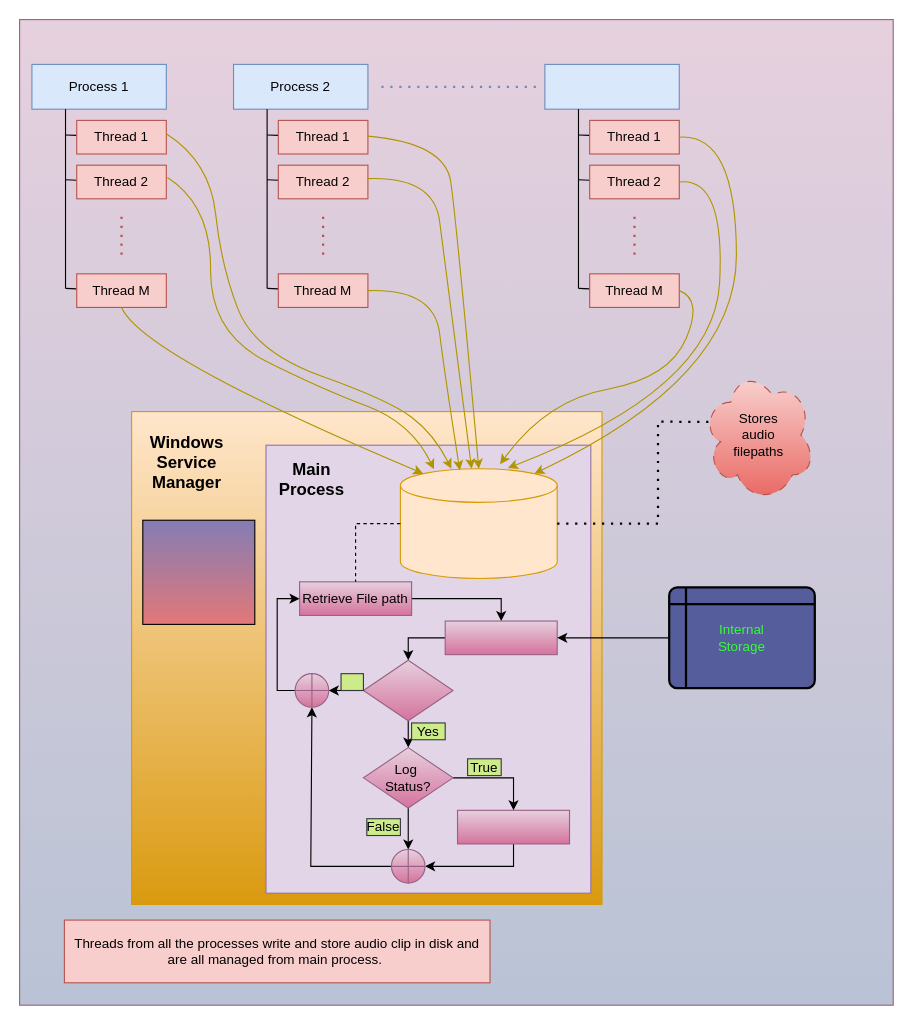
Some shapes in this 913 by 1025 pixel diagram are drawn without their labels. Here are the shapes that lost their labels. From the top down, the centre of each, then its label:
At (x=611, y=86): "Process N".
At (x=478, y=523): "FIFO Queue".
At (x=198, y=571): "Options > start > stop > restart".
At (x=500, y=637): "Match Audio".
At (x=351, y=681): "No".
At (x=407, y=690): "Matched?".
At (x=513, y=826): "Log into DB".
